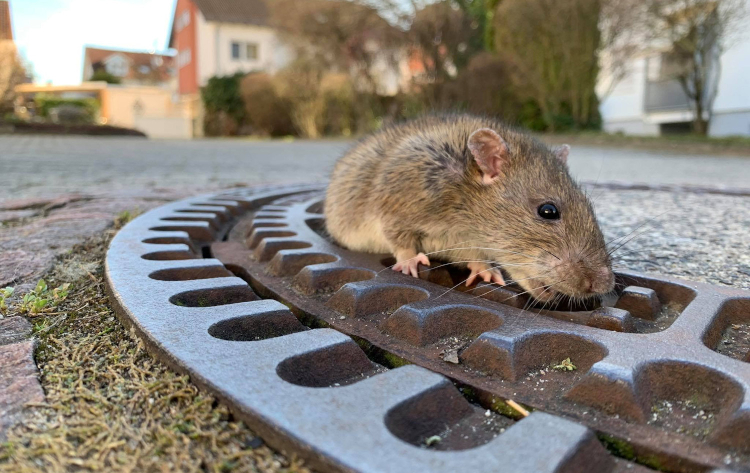rat: (314, 106, 631, 318)
